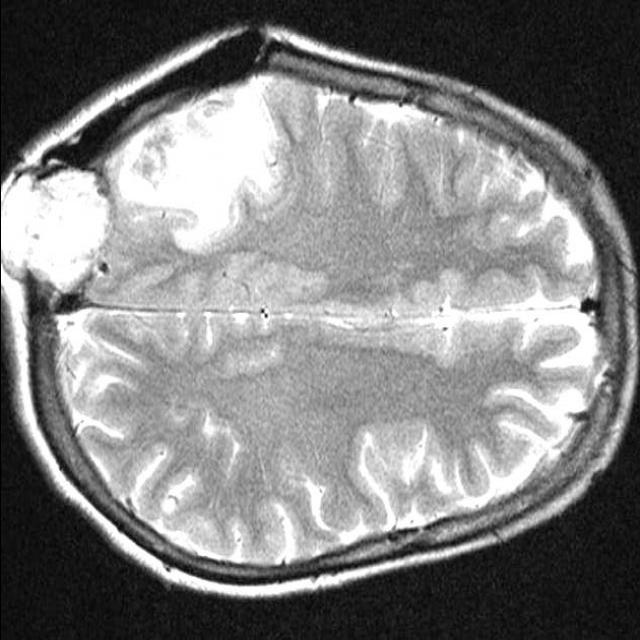tumor: (101, 74, 283, 254), (4, 166, 110, 310)
